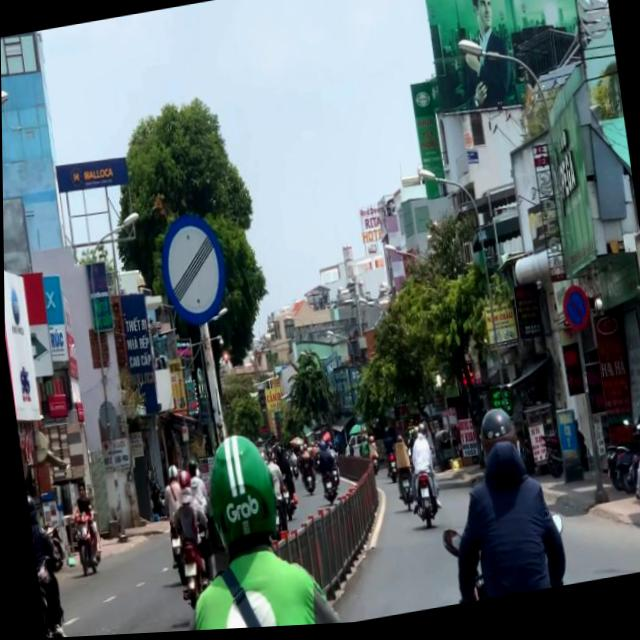Cam do xe: (560, 290, 591, 337)
